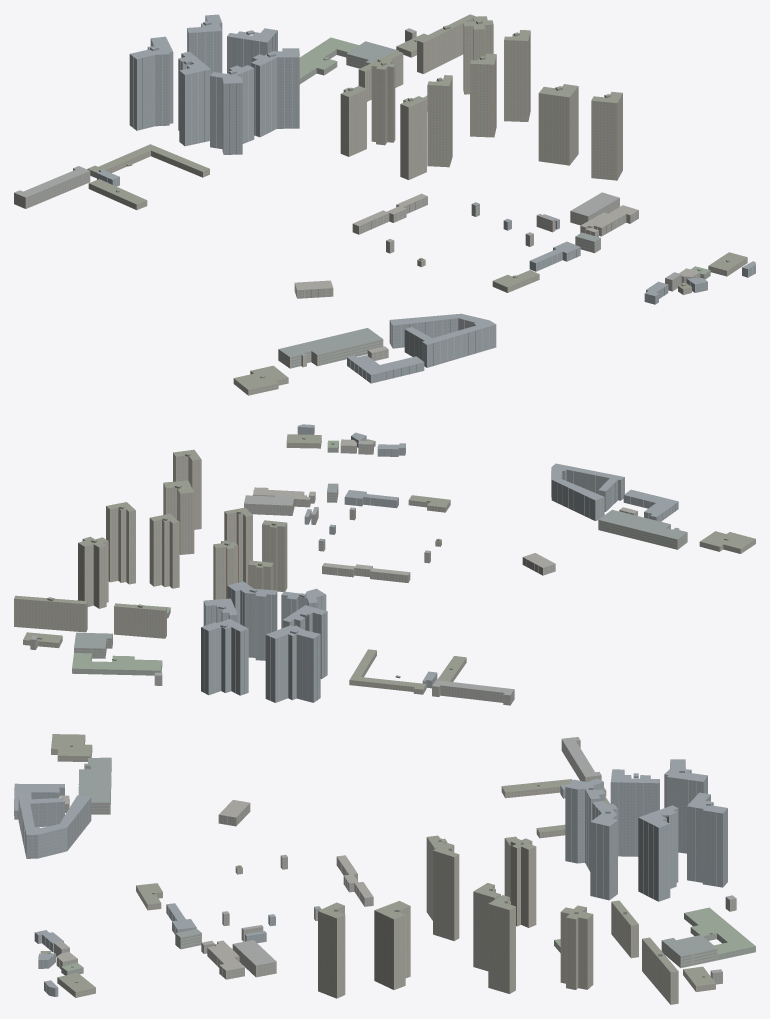
3 views of the same model, one above another, from view 1: azimuth 30°, elevation 25°; view 2: azimuth 150°, elevation 25°; view 3: azimuth 270°, elevation 25° (orthographic). The views are drawn at different scales.
Parts seen in each view (by area): view 1: context-0, context-1, context-2, context-5, context-4, context-3; view 2: context-0, context-1, context-2, context-5, context-4, context-3; view 3: context-0, context-1, context-2, context-5, context-4, context-3.
Part boxes in pixels (x1=…): context-0: x1=87, y1=14, x2=747, y2=395; context-1: x1=97, y1=14, x2=755, y2=383; context-2: x1=278, y1=41, x2=600, y2=368; context-5: x1=14, y1=28, x2=681, y2=291; context-4: x1=294, y1=193, x2=700, y2=360; context-3: x1=299, y1=37, x2=710, y2=279; context-0: x1=14, y1=434, x2=755, y2=694; context-1: x1=201, y1=424, x2=678, y2=702; context-2: x1=74, y1=483, x2=687, y2=658; context-5: x1=30, y1=440, x2=514, y2=705; context-4: x1=252, y1=439, x2=637, y2=582; context-3: x1=72, y1=440, x2=338, y2=675; context-0: x1=40, y1=734, x2=715, y2=1004; context-1: x1=14, y1=759, x2=727, y2=996; context-2: x1=78, y1=757, x2=717, y2=967; context-5: x1=54, y1=737, x2=736, y2=984; context-4: x1=56, y1=795, x2=373, y2=979; context-3: x1=61, y1=907, x2=755, y2=975.
Size of the model in its own units: 597 by 90 by 704.
